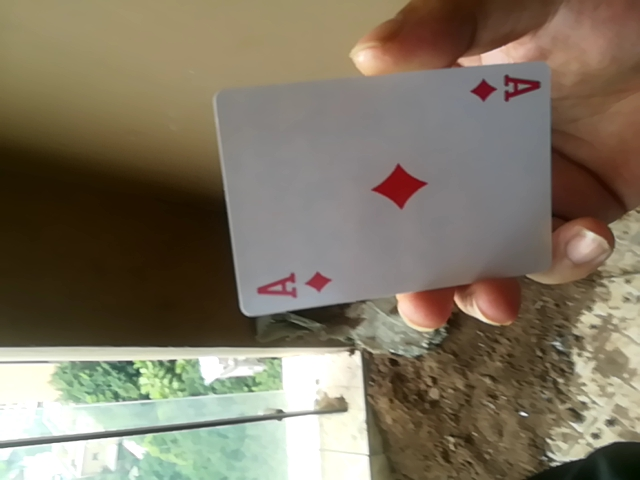fk a: (213, 58, 555, 316)
